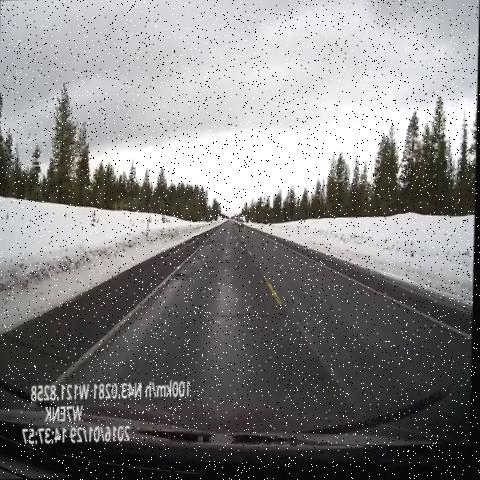pothole: (165, 264, 193, 288), (203, 230, 220, 255)
